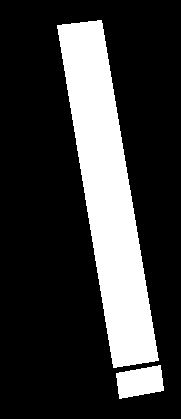parkingspot: (57, 20, 158, 367), (116, 365, 163, 398)
